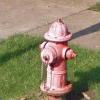Hydrant: (31, 10, 77, 100)
